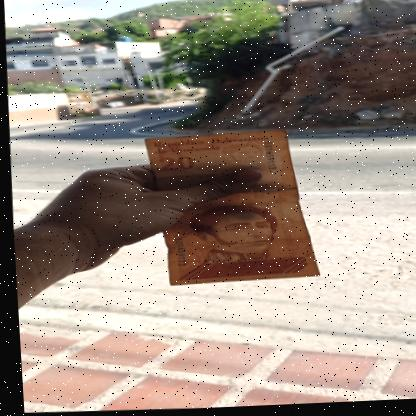twenty-front-vef: (139, 124, 319, 290)
